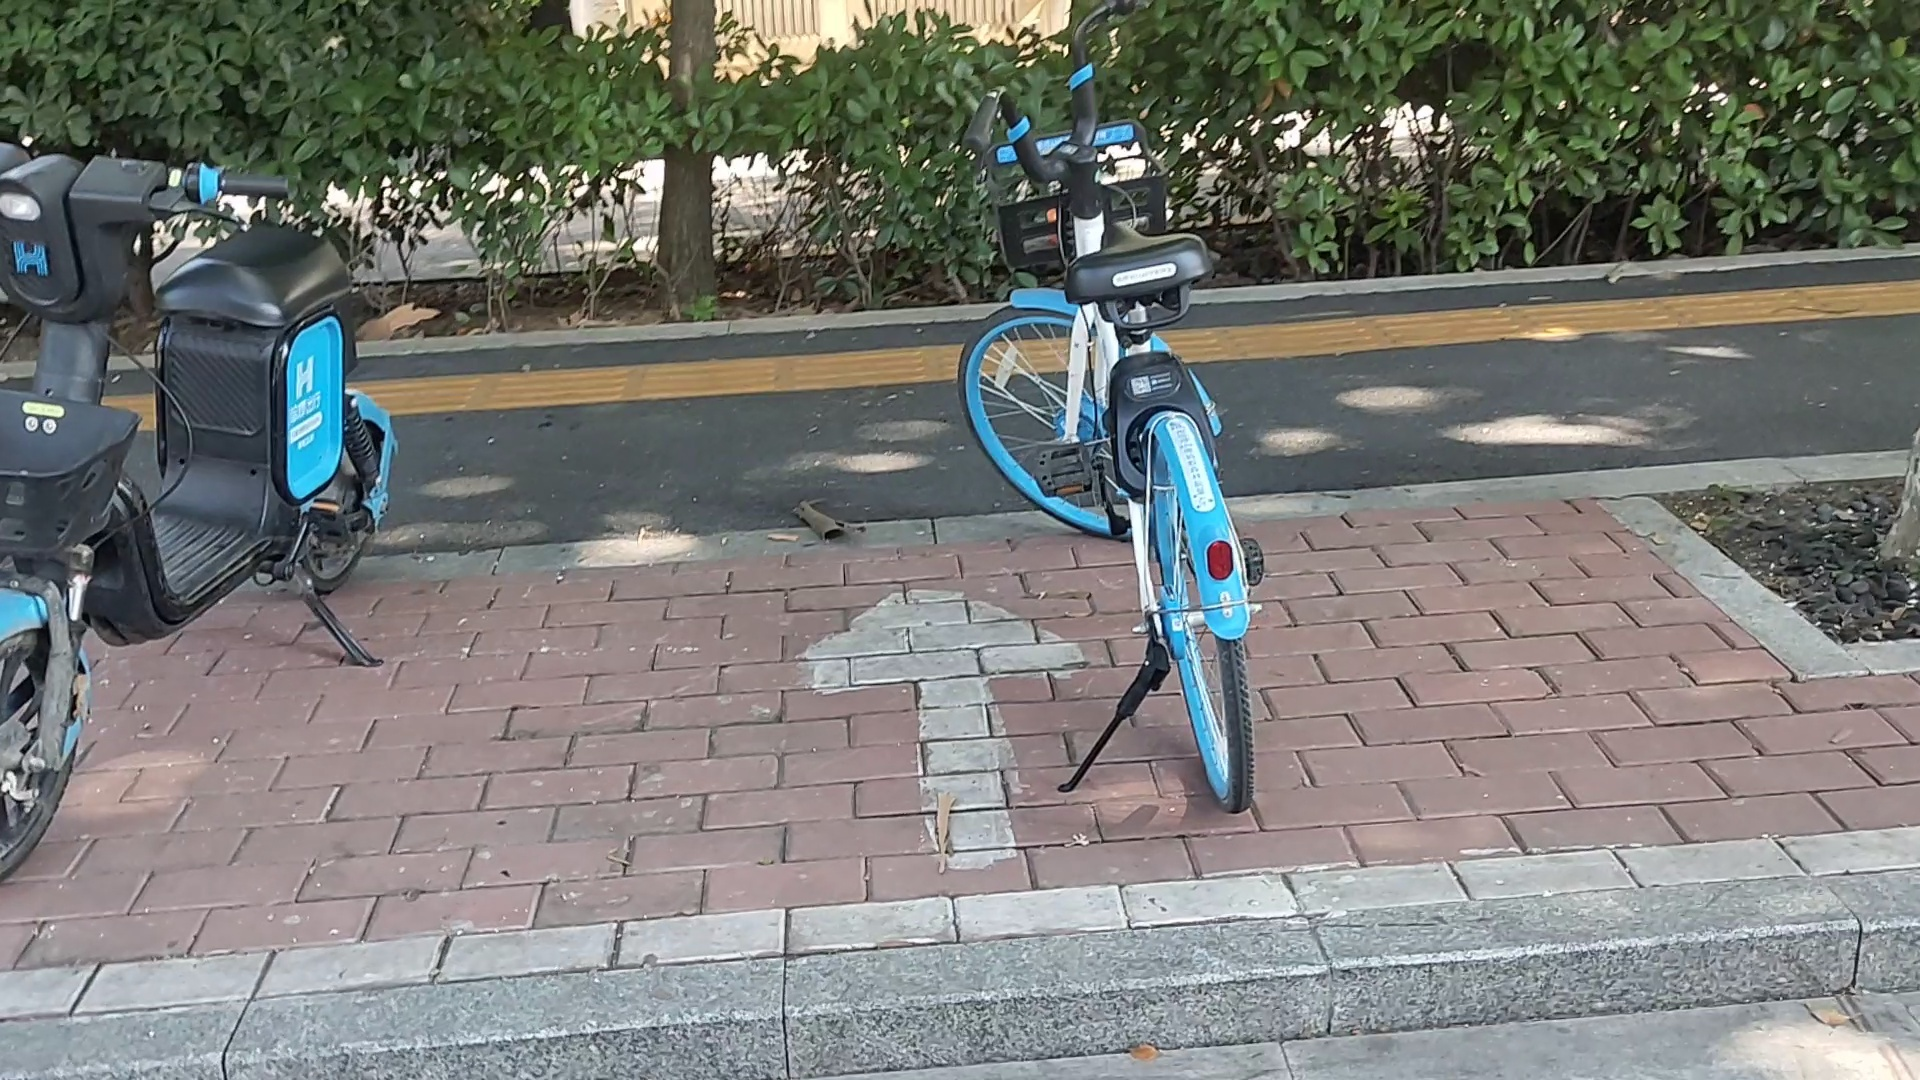non-vehicle: (3, 108, 393, 956), (959, 50, 1250, 827)
